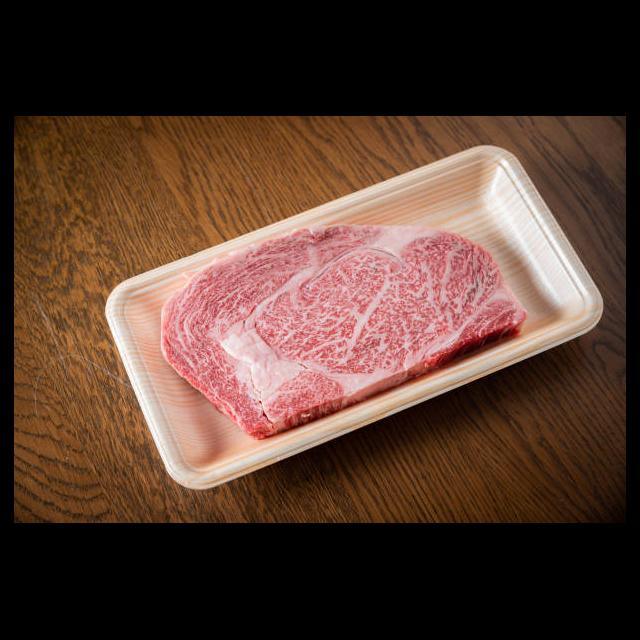beef: (158, 222, 524, 441)
